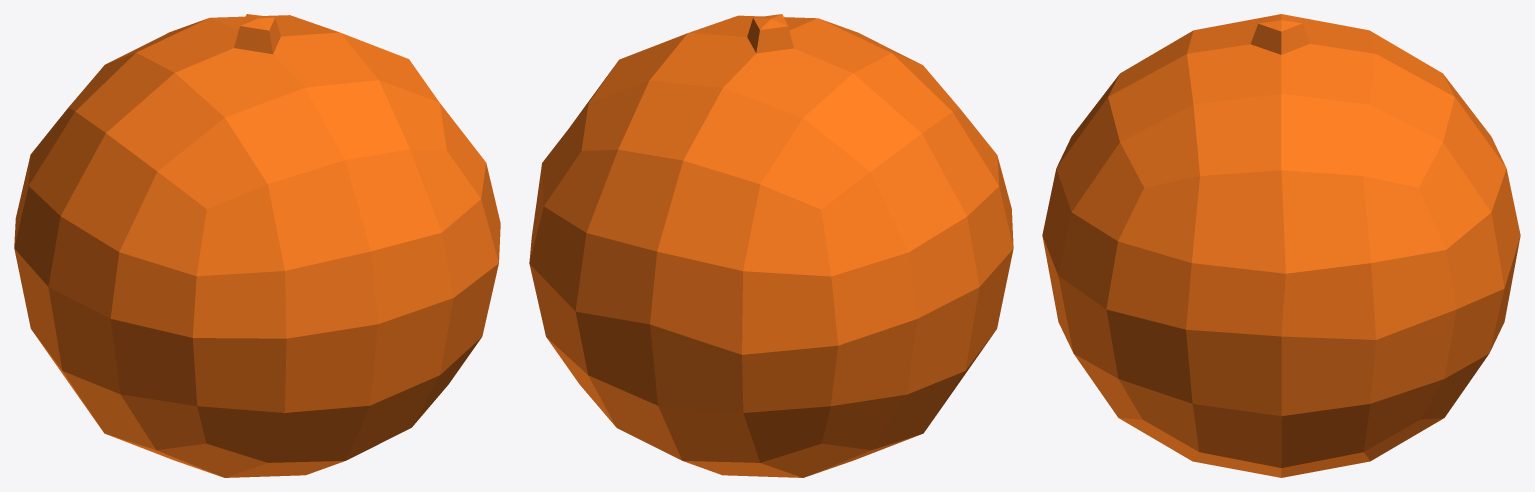
Rendered from Orange.obj.
3 views of the same model, side by side, from view 1: azimuth 30°, elevation 25°; view 2: azimuth 150°, elevation 25°; view 3: azimuth 270°, elevation 25° (orthographic).
Parts seen in each view (by area): view 1: Orange; view 2: Orange; view 3: Orange.
Part boxes in pixels (x1,y1,x2,y2): Orange: (14, 14, 500, 477); Orange: (529, 14, 1013, 477); Orange: (1042, 14, 1520, 477).
Bounding box in the file's own units: 0.7449 × 0.7424 × 0.7449.
